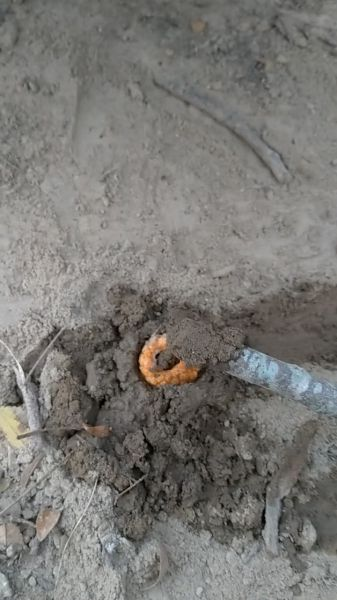eggs: (134, 328, 207, 391)
